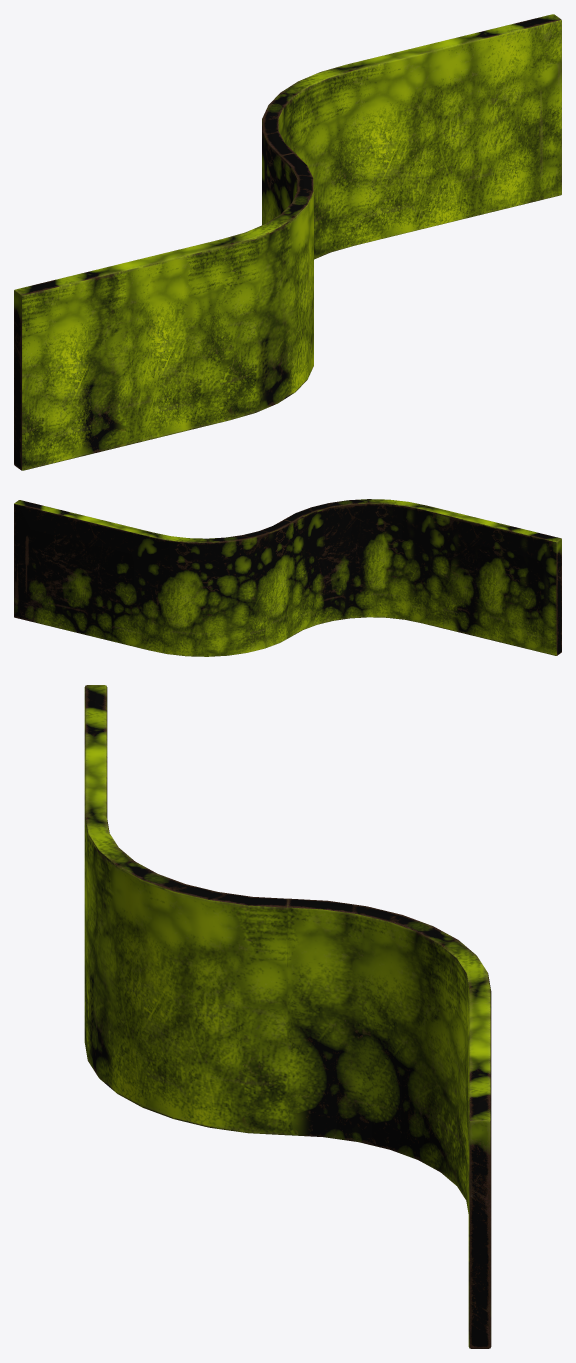
File: curved_wall_S_v4.glb
3 renders of one model, top to bottom at view 1: azimuth 30°, elevation 25°; view 2: azimuth 150°, elevation 25°; view 3: azimuth 270°, elevation 25°, orthographic. The views are drawn at different scales.
Visible parts, largest first — view 1: S_Curve_Wall; view 2: S_Curve_Wall; view 3: S_Curve_Wall.
Part boxes in pixels (x1,y1,x2,y2): S_Curve_Wall: (14, 14, 561, 470); S_Curve_Wall: (14, 499, 561, 656); S_Curve_Wall: (84, 685, 491, 1348).
Size of the model in its own units: 4.09 by 1 by 1.61.
Materials: 2 (2 with a texture image).
